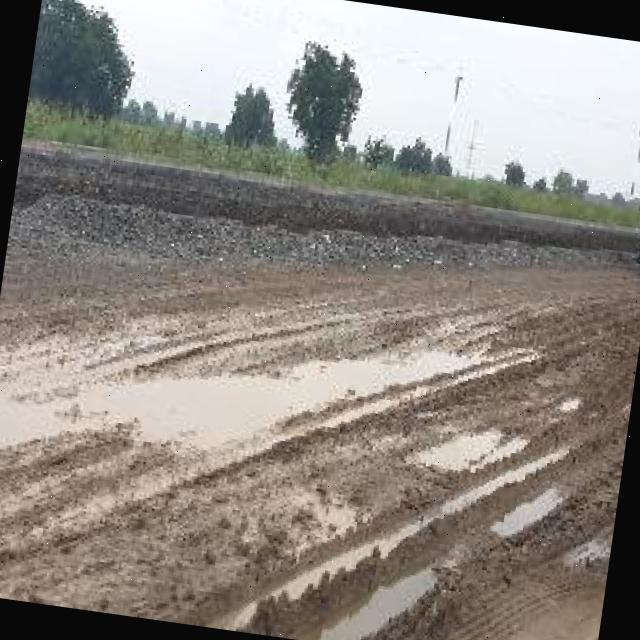stagnation: (84, 352, 308, 470), (0, 327, 84, 496), (394, 404, 542, 499), (470, 477, 576, 562)
